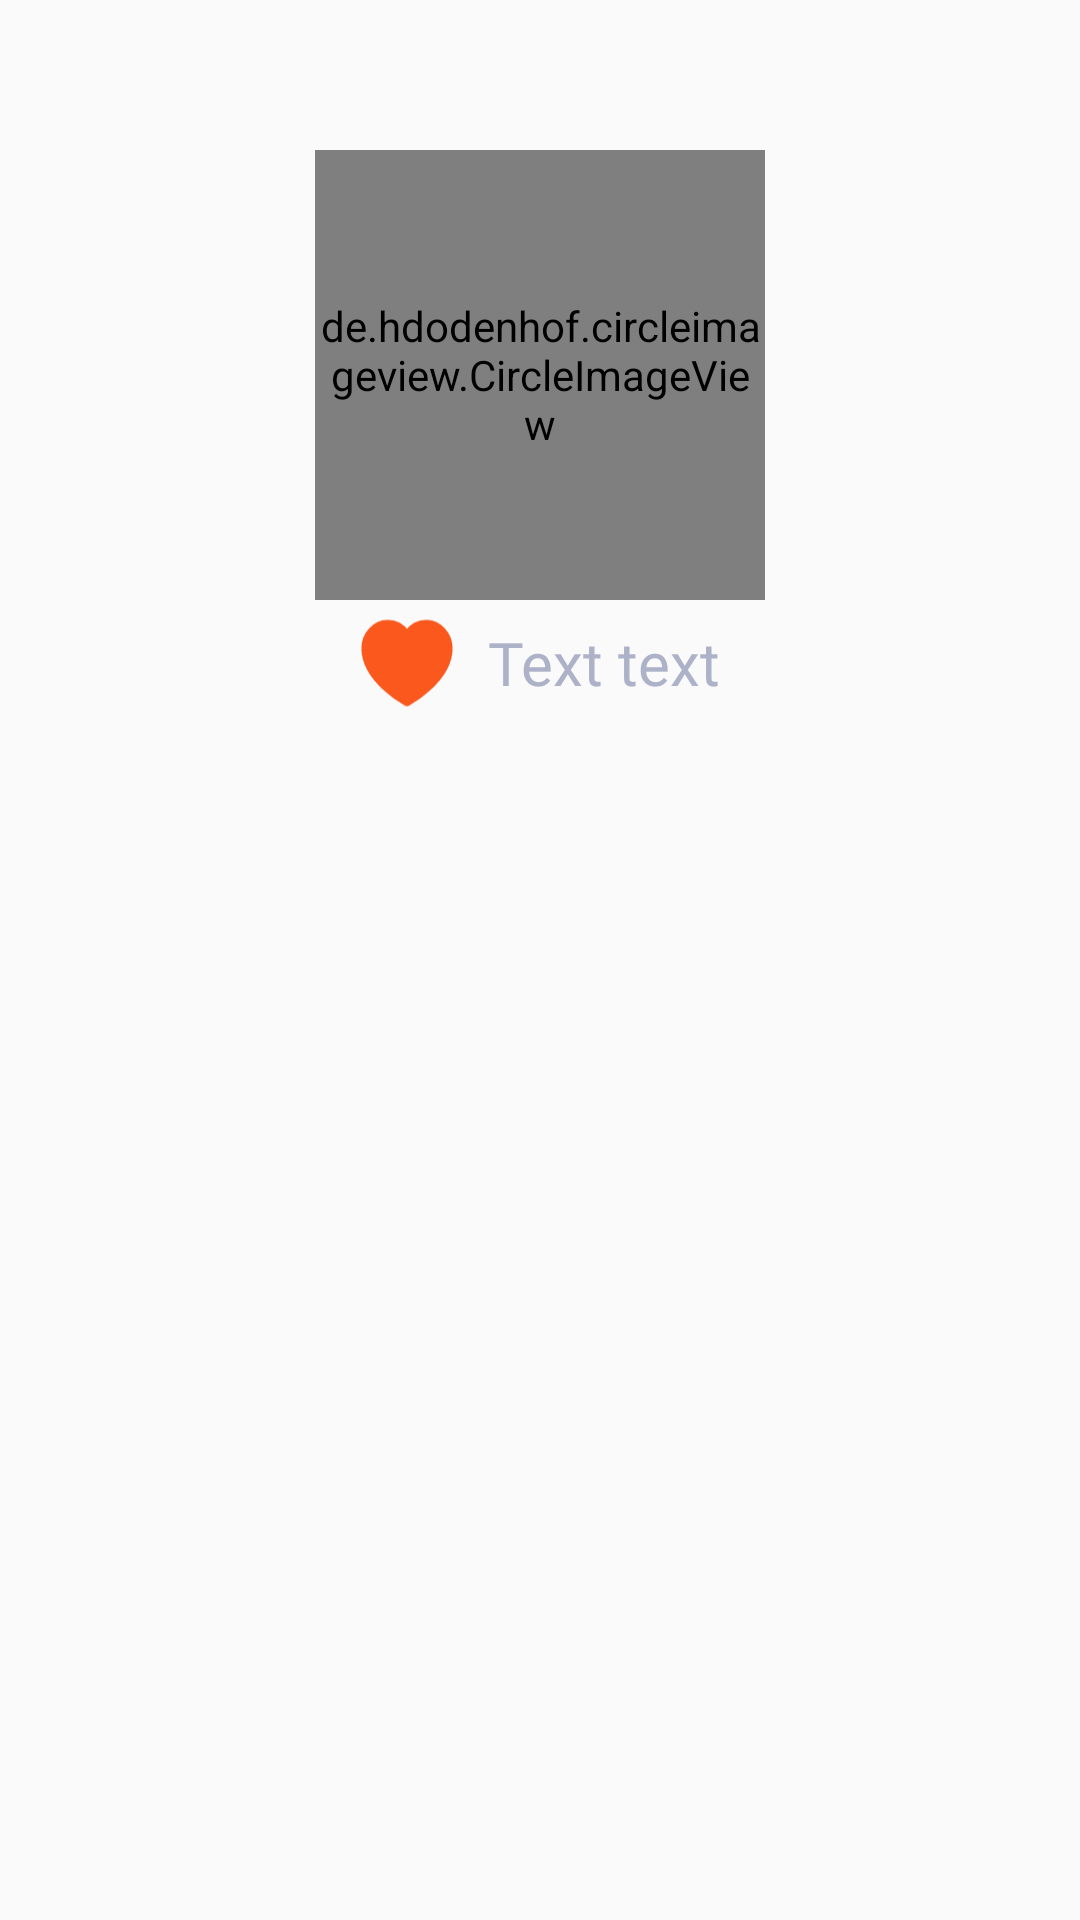

Named icons in this screenshot (1080x1920) and their centers, point (x, y):
heart: point (407, 663)
